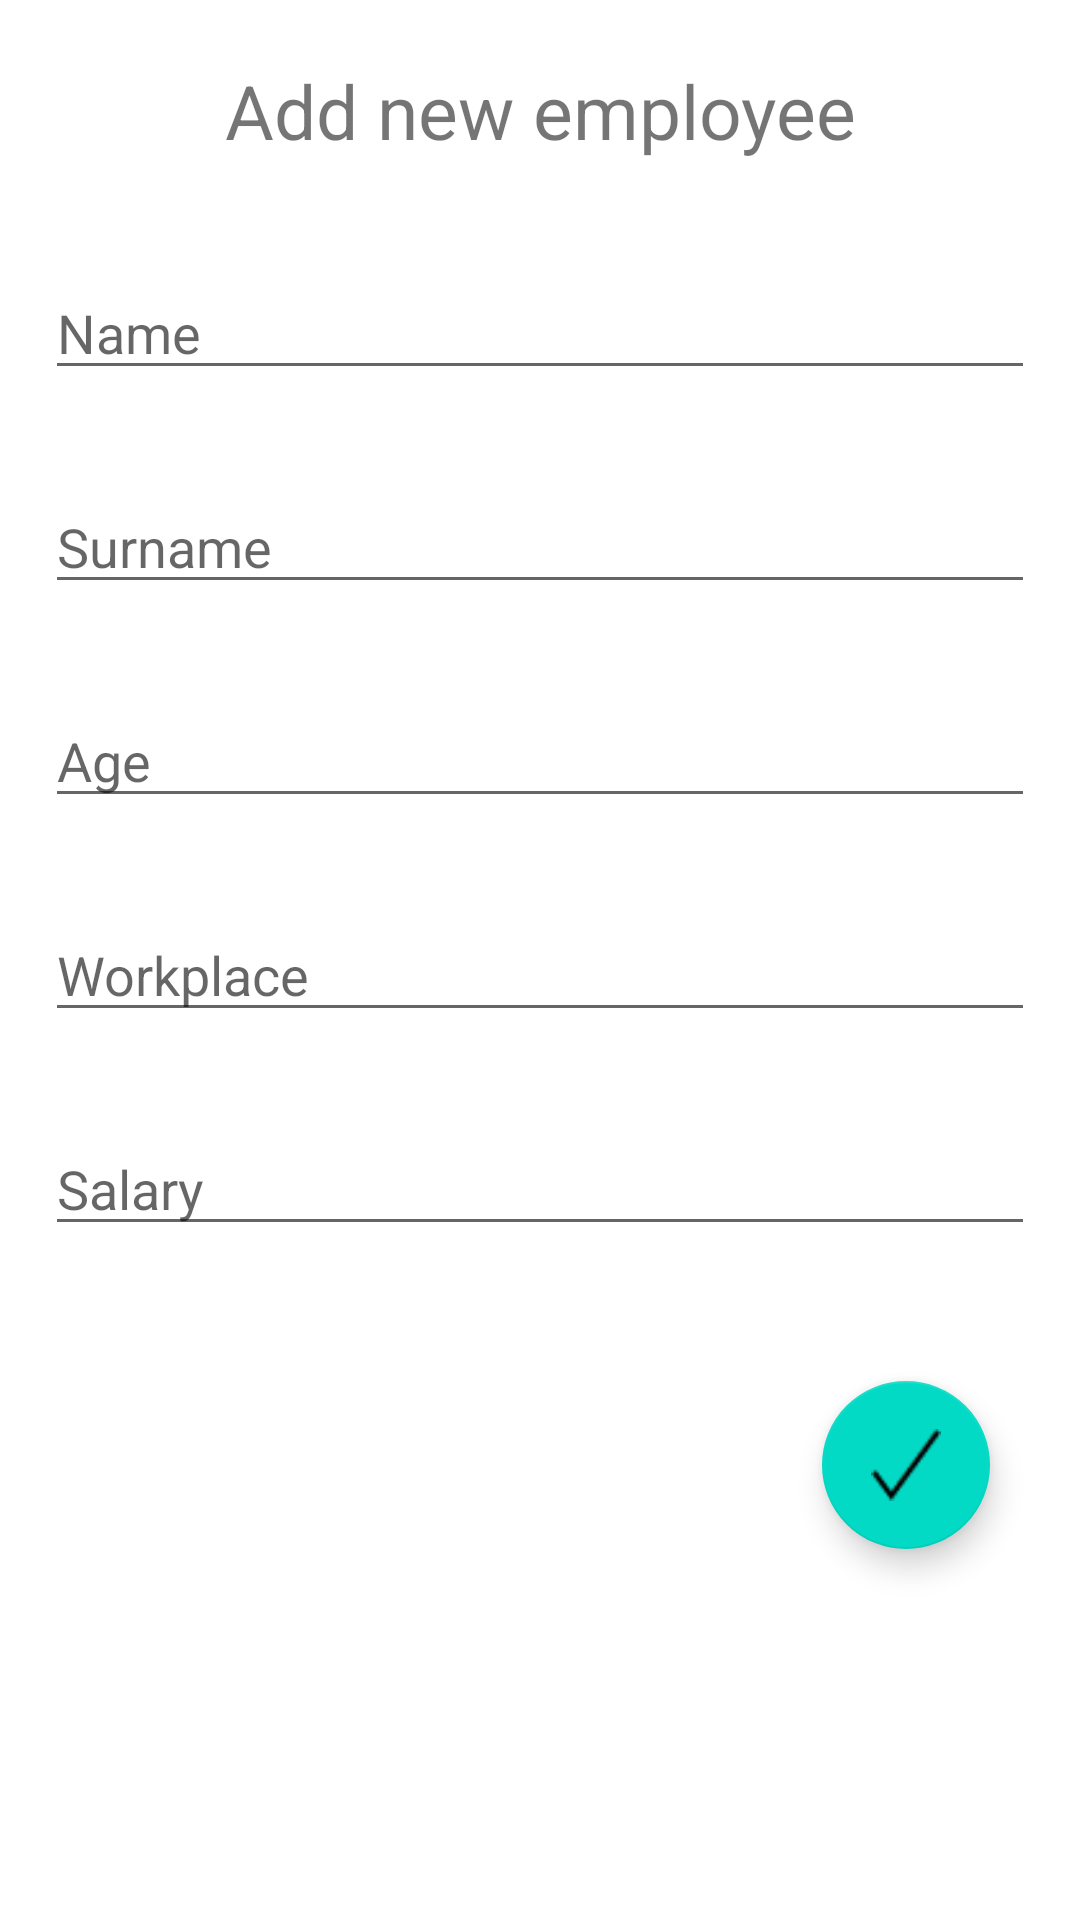

Point at icon controls on the screen. Image size 1080x1920, points as point (x, y).
fab done: point (906, 1465)
